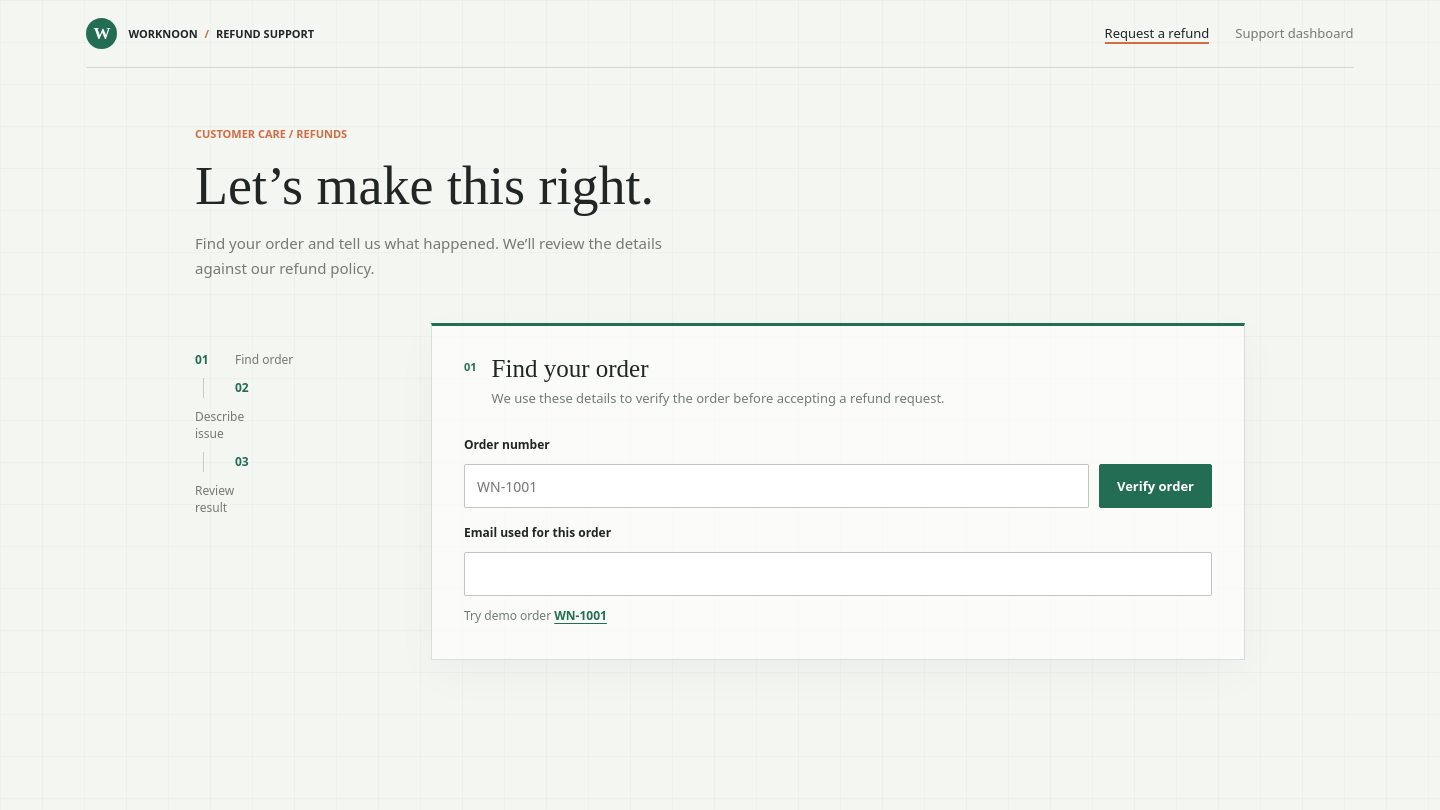
CustomerRefundFlow › shows a useful error when an order number is unknown
The image size is (1440, 810).
In the field labelled "Order number": (776, 486) [464,464,1089,508], type "WN-UNKNOWN"
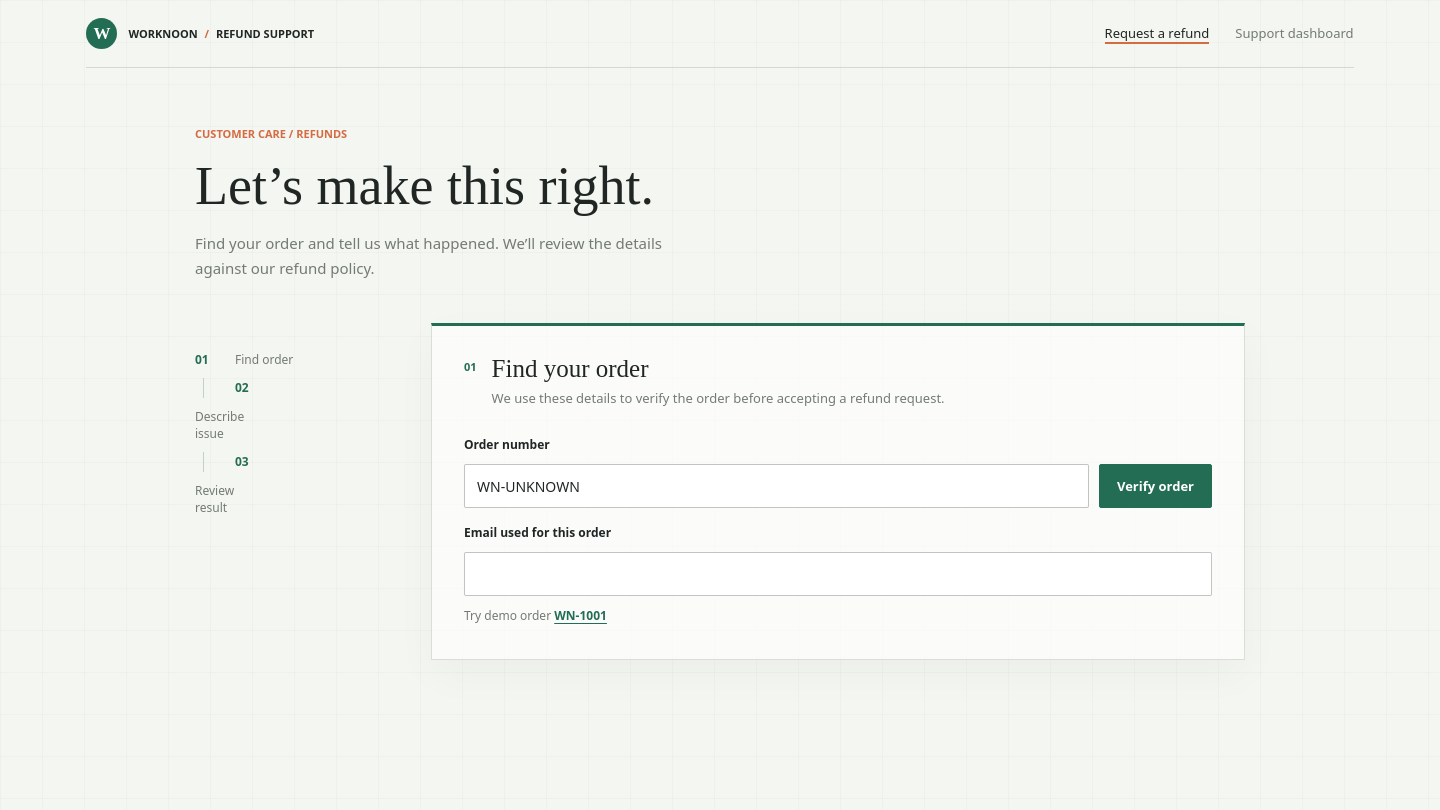
In the field labelled "Email used for this order": (838, 574) [464,552,1212,596], type "wrong.customer@example.test"
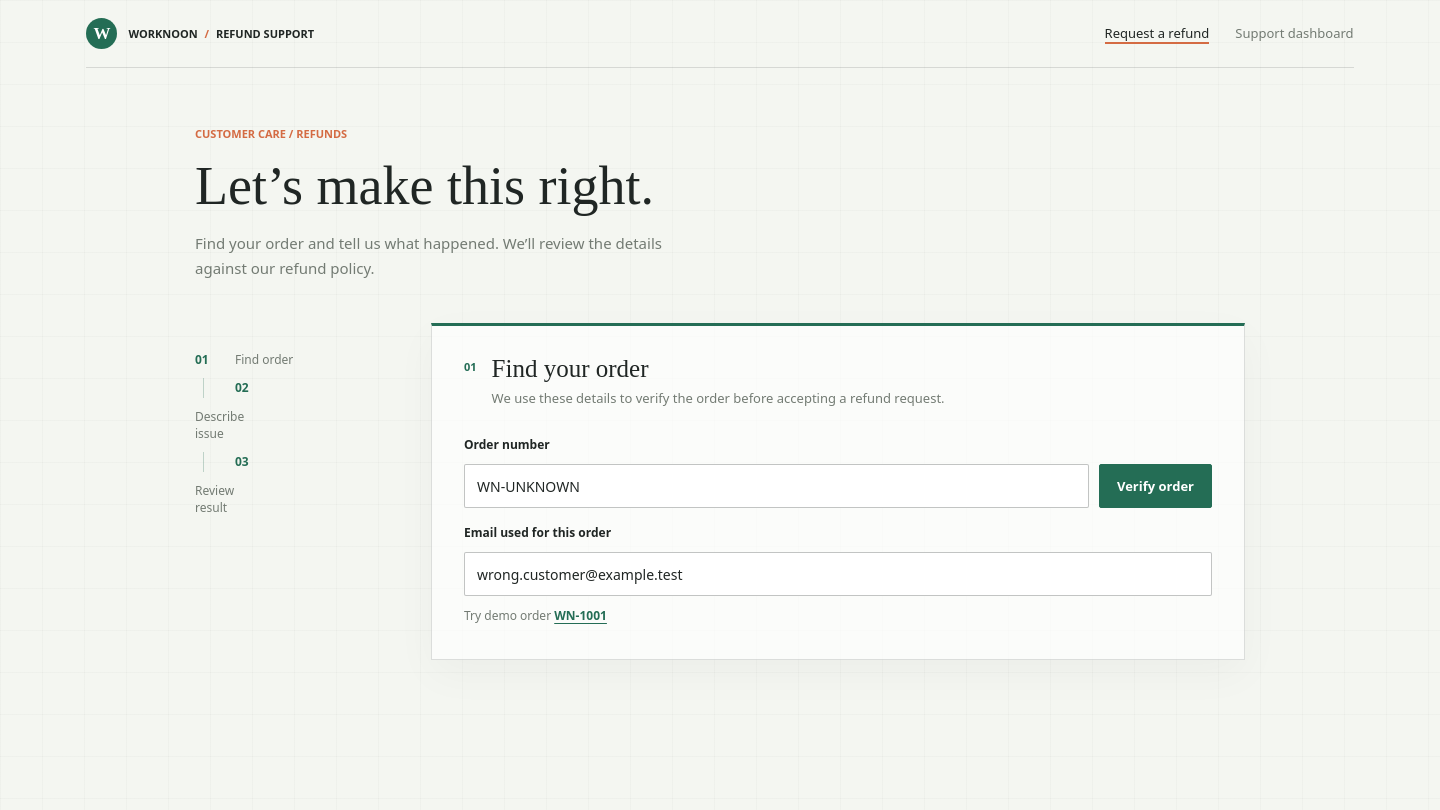
Click the button "Verify order": click(1155, 486) [1099,464,1212,508]
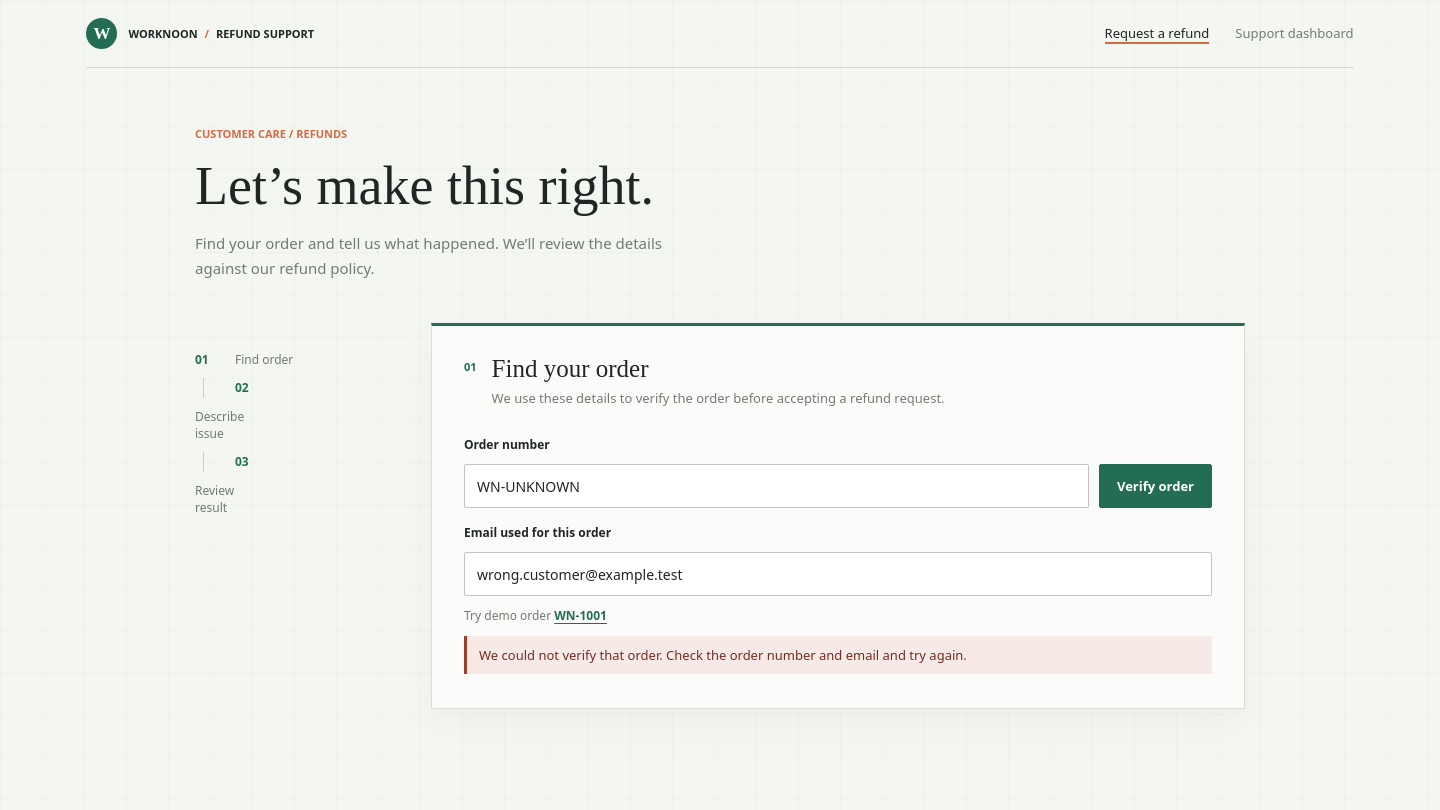
expect the message shows "could not verify that order": met, box [479,646,967,664]
